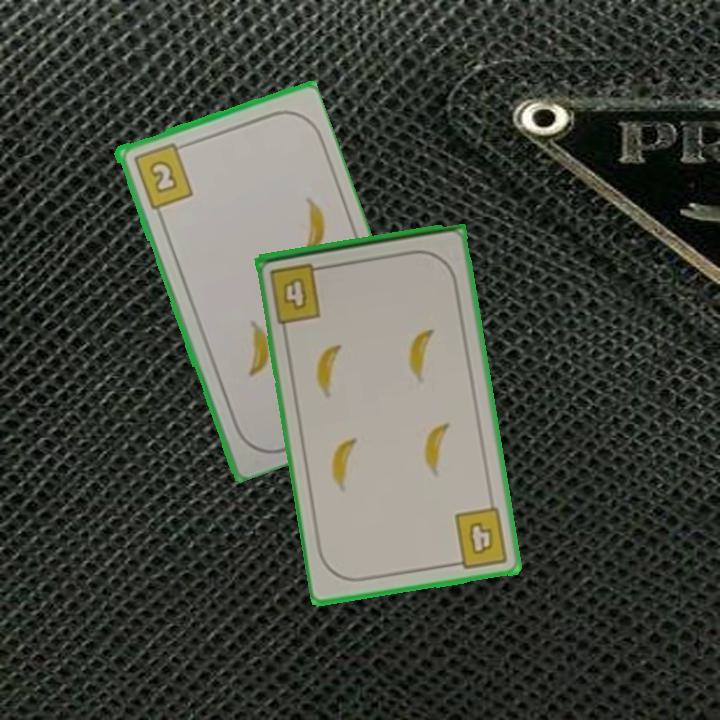2b: (129, 139, 196, 212)
4b: (447, 504, 512, 571), (266, 259, 331, 326)
